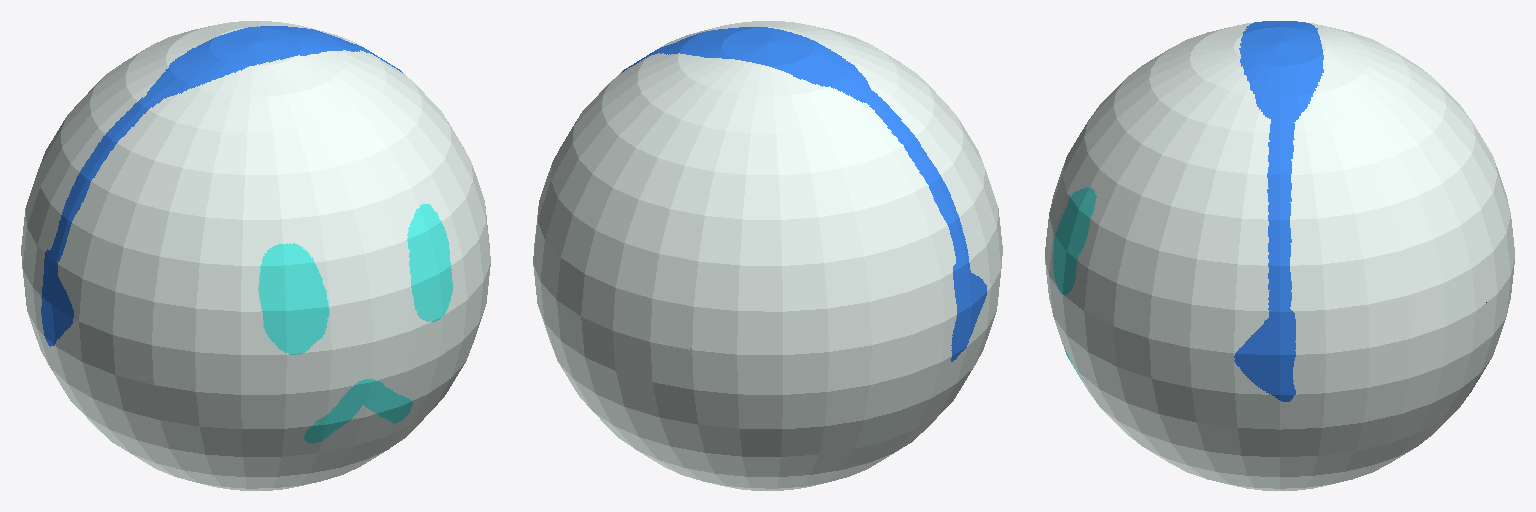
3 renders of one model, left to right at view 1: azimuth 30°, elevation 25°; view 2: azimuth 150°, elevation 25°; view 3: azimuth 270°, elevation 25°, orthographic.
Parts seen in each view (by area): view 1: 球; view 2: 球; view 3: 球.
Part boxes in pixels (left/top/right/bottom): 球: left=21, top=21, right=490, bottom=490; 球: left=533, top=21, right=1002, bottom=490; 球: left=1045, top=21, right=1514, bottom=490.
Size of the model in its own units: 2 by 2 by 2.
Materials: 1 (1 with a texture image).